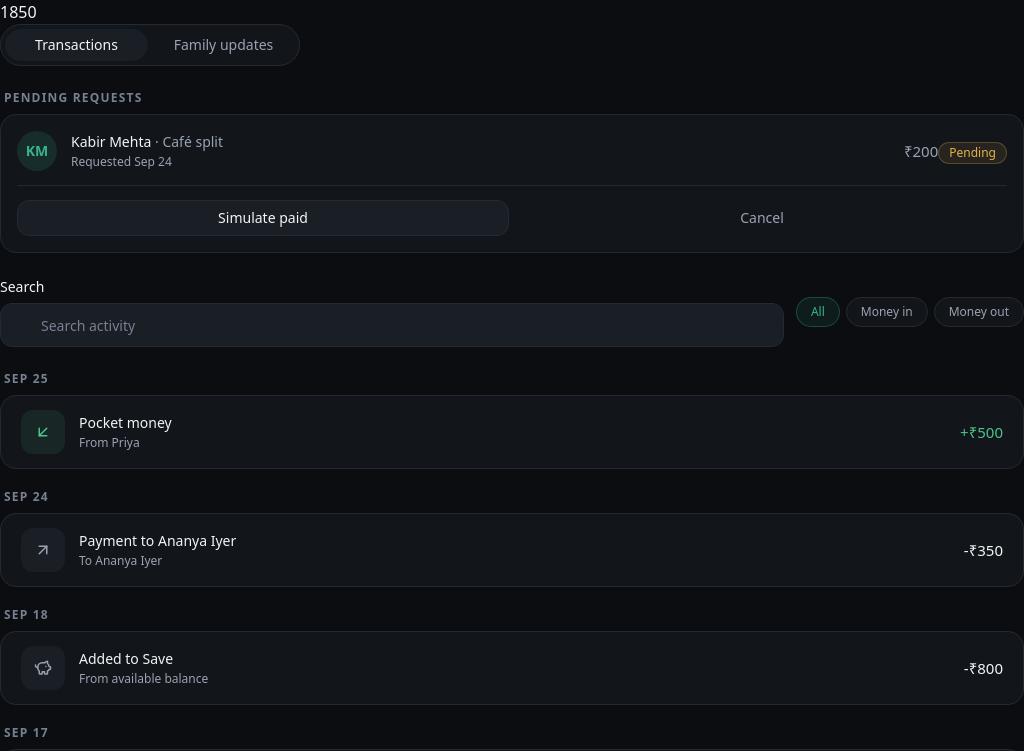
Test case: activity feed › opens an immutable transaction detail from a row
The width and height of the screenshot is (1024, 751).
Click the button "Pocket money From Priya +₹500" at (43, 432), box [1,396,1023,468]
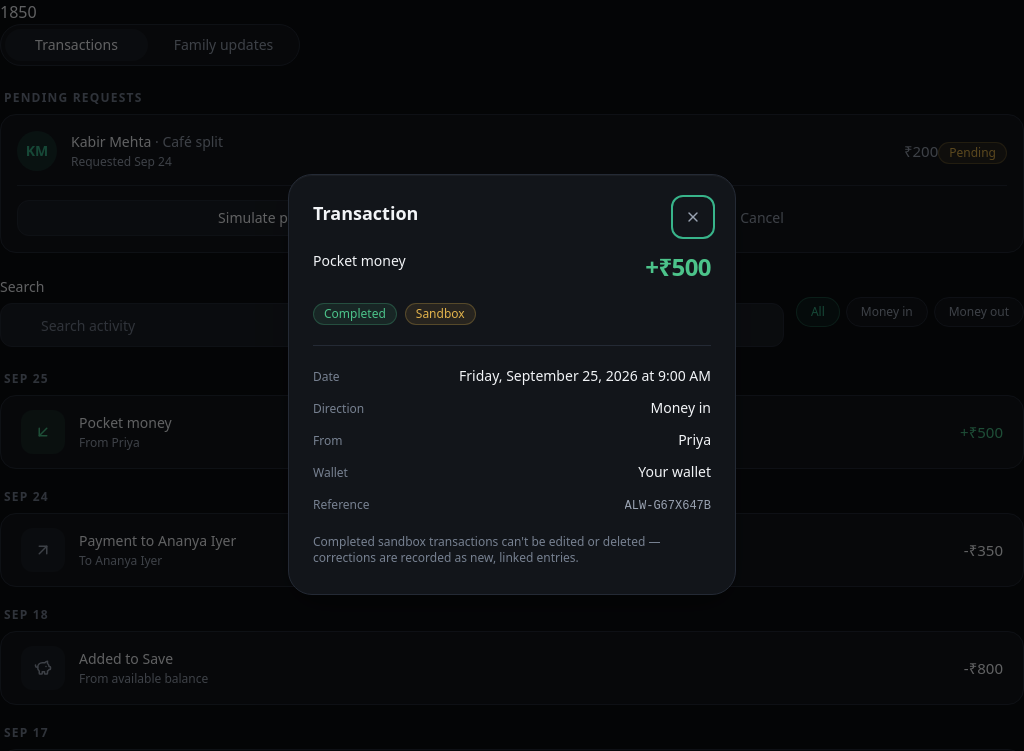
Result: the text "Pocket money" is shown at [313,250,406,270]
Result: the text "Completed" is shown at [313,302,397,324]
Result: the text "Sandbox" is shown at [405,302,476,324]
# Escape closes the detail (after its quick exit animation).
Press Escape
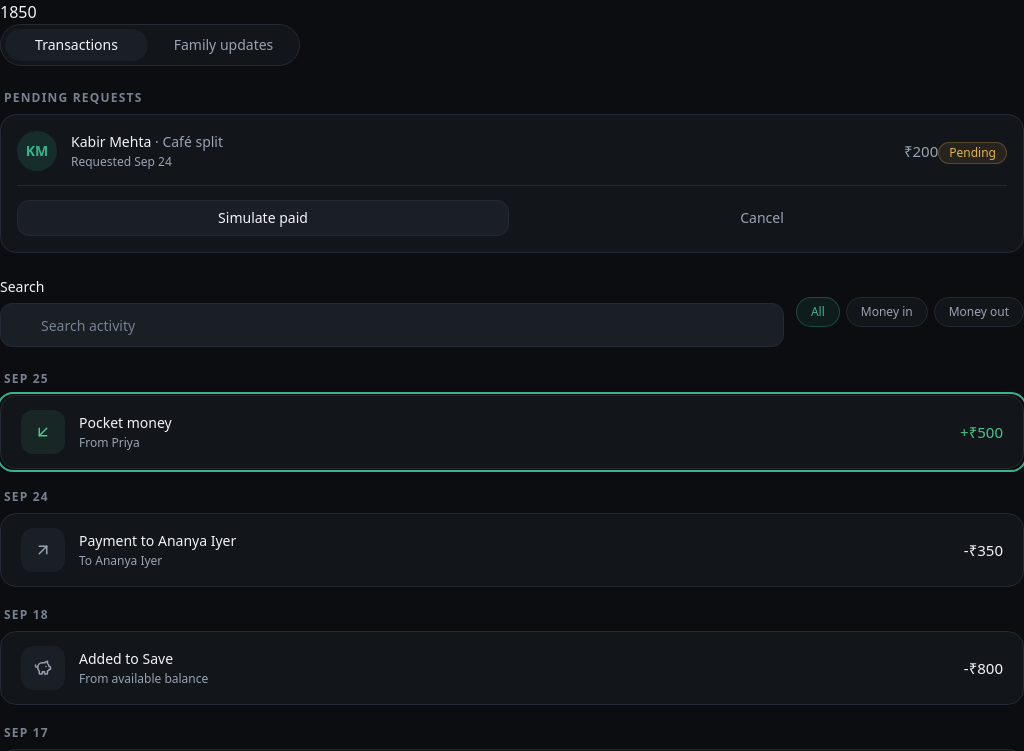
Result: the dialog is gone
